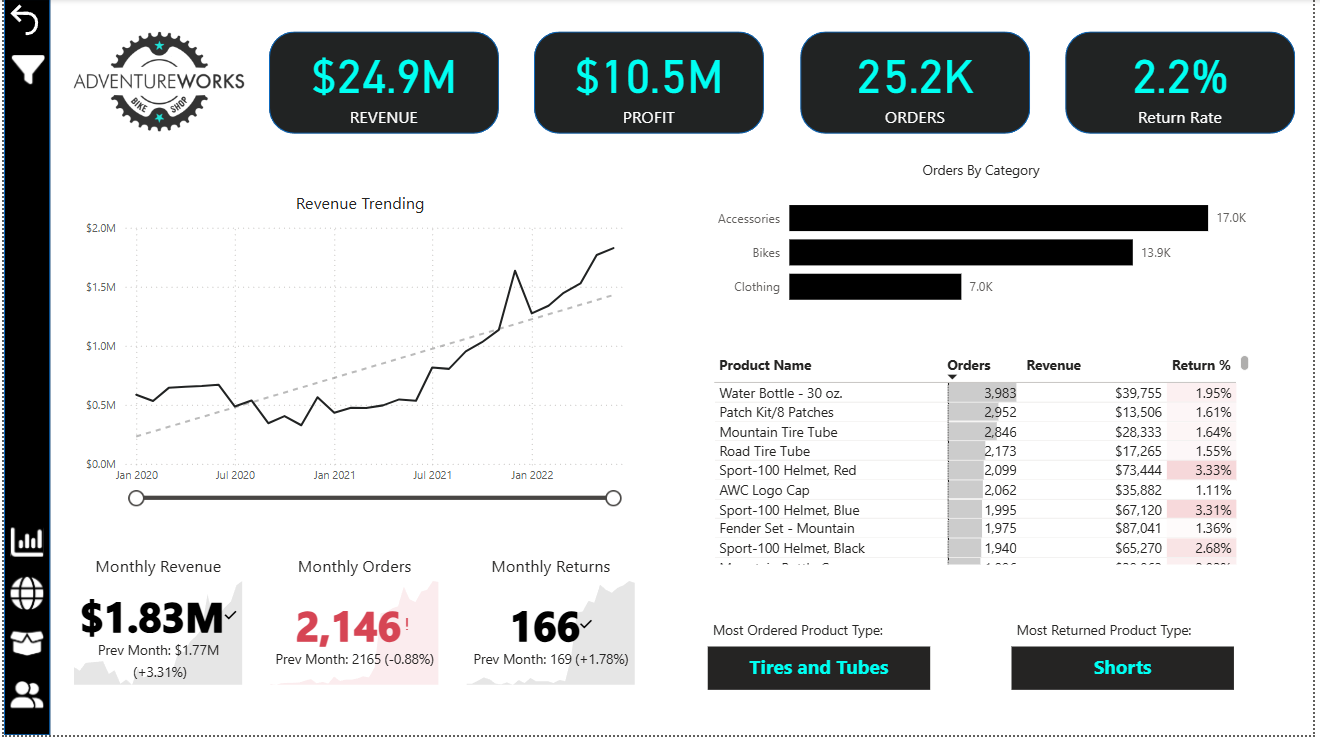

The page's visual inventory and layout, read from the dashboard file:
{"tool":"powerbi","page":{"name":"Exec Dashboard","canvas":[1280,720],"ordinal":0},"visuals":[{"type":"image","title":"AW Logo","box":[45,5,213.8,152.5],"z":0},{"type":"actionButton","box":[2.8,511.1,45.2,40.4],"z":0,"group":"g1"},{"type":"shape","title":"Left Nav Background","box":[0,0,45.2,720.2],"z":1000},{"type":"actionButton","box":[2.8,660.3,45.2,40.4],"z":1000,"group":"g1"},{"type":"shape","box":[258.8,31.2,225,100],"z":2000},{"type":"actionButton","box":[2.8,610.6,45.2,40.4],"z":2000,"group":"g1"},{"type":"shape","box":[1038.8,31.2,225,100],"z":3000},{"type":"actionButton","box":[2.8,560.8,45.2,40.4],"z":3000,"group":"g1"},{"type":"shape","box":[778.8,31.2,225,100],"z":4000},{"type":"shape","box":[518.8,31.2,225,100],"z":5000},{"type":"card","fields":{"Values":["Measure Table.Total Revenue"]},"box":[258.8,31.2,225,100],"z":6000},{"type":"card","fields":{"Values":["Measure Table.Return Rate"]},"box":[1038.8,31.2,225,100],"z":7000},{"type":"card","fields":{"Values":["Measure Table.Total Orders"]},"box":[778.8,31.2,225,100],"z":8000},{"type":"card","fields":{"Values":["Measure Table.Total Profit"]},"box":[518.8,31.2,225,100],"z":9000},{"type":"lineChart","title":"Revenue Trending","fields":{"Y":["Measure Table.Total Revenue"],"Category":["Calendar Lookup.Year","Calendar Lookup.Start of Quarter","Calendar Lookup.Start of Month"]},"box":[74.6,188.3,547.8,310.6],"z":10000},{"type":"kpi","title":"Monthly Revenue","fields":{"Indicator":["Measure Table.Total Revenue"],"TrendLine":["Calendar Lookup.Start of Month"],"Goal":["Measure Table.Previous Month Revenue"]},"box":[63.6,542.9,174.9,133.3],"z":11000},{"type":"kpi","title":"Monthly Returns","fields":{"TrendLine":["Calendar Lookup.Start of Month"],"Indicator":["Measure Table.Total Returns"],"Goal":["Measure Table.Previous Month Returns"]},"box":[447.6,542.9,174.9,133.3],"z":12000},{"type":"kpi","title":"Monthly Orders","fields":{"TrendLine":["Calendar Lookup.Start of Month"],"Indicator":["Measure Table.Total Orders"],"Goal":["Measure Table.Previous Month Orders"]},"box":[255.6,542.9,174.9,133.3],"z":13000},{"type":"clusteredBarChart","title":"Orders By Category","fields":{"Category":["Product Categories Lookup.CategoryName"],"Y":["Measure Table.Total Orders"]},"box":[688.5,157.7,534.4,156.5],"z":14000},{"type":"tableEx","fields":{"Values":["Product Lookup.ProductName","Measure Table.Total Orders","Measure Table.Total Revenue","Measure Table.Return Rate"]},"box":[688.4,344.2,534.8,214.8],"z":15000},{"type":"card","fields":{"Values":["Min(Product Subcategories Lookup.SubcategoryName)"]},"box":[688.5,633.4,217.7,42.8],"z":16000},{"type":"textbox","box":[688.5,602.9,217.7,30.6],"z":17000},{"type":"card","fields":{"Values":["Min(Product Subcategories Lookup.SubcategoryName)"]},"box":[985.6,633.4,217.7,42.8],"z":18000},{"type":"textbox","box":[985.6,602.9,217.7,30.6],"z":19000},{"type":"actionButton","box":[0,0,45.2,40.4],"z":20000},{"type":"group","id":"g1","title":"Navigation Buttons","box":[2.8,511.1,45.2,189.5],"z":21000},{"type":"actionButton","box":[3.7,48.9,45.2,40.4],"z":22000}]}

Visuals, with their boxes on the page's 1280x720 design canvas (x1, y1, x2, y2). These are canvas units, not pixel positions in the 1320x743 screenshot, which may show the page scaled, cropped or inside an application window:
"AW Logo" image: [45,5,259,158]
actionButton: [3,511,48,552]
"Left Nav Background" shape: [0,0,45,720]
actionButton: [3,660,48,701]
shape: [259,31,484,131]
actionButton: [3,611,48,651]
shape: [1039,31,1264,131]
actionButton: [3,561,48,601]
shape: [779,31,1004,131]
shape: [519,31,744,131]
card - Measure Table.Total Revenue: [259,31,484,131]
card - Measure Table.Return Rate: [1039,31,1264,131]
card - Measure Table.Total Orders: [779,31,1004,131]
card - Measure Table.Total Profit: [519,31,744,131]
"Revenue Trending" lineChart: [75,188,622,499]
"Monthly Revenue" kpi: [64,543,238,676]
"Monthly Returns" kpi: [448,543,622,676]
"Monthly Orders" kpi: [256,543,430,676]
"Orders By Category" clusteredBarChart: [688,158,1223,314]
tableEx - Product Lookup.ProductName x Measure Table.Total Orders: [688,344,1223,559]
card - Min(Product Subcategories Lookup.SubcategoryName): [688,633,906,676]
textbox: [688,603,906,634]
card - Min(Product Subcategories Lookup.SubcategoryName): [986,633,1203,676]
textbox: [986,603,1203,634]
actionButton: [0,0,45,40]
"Navigation Buttons" group: [3,511,48,701]
actionButton: [4,49,49,89]
